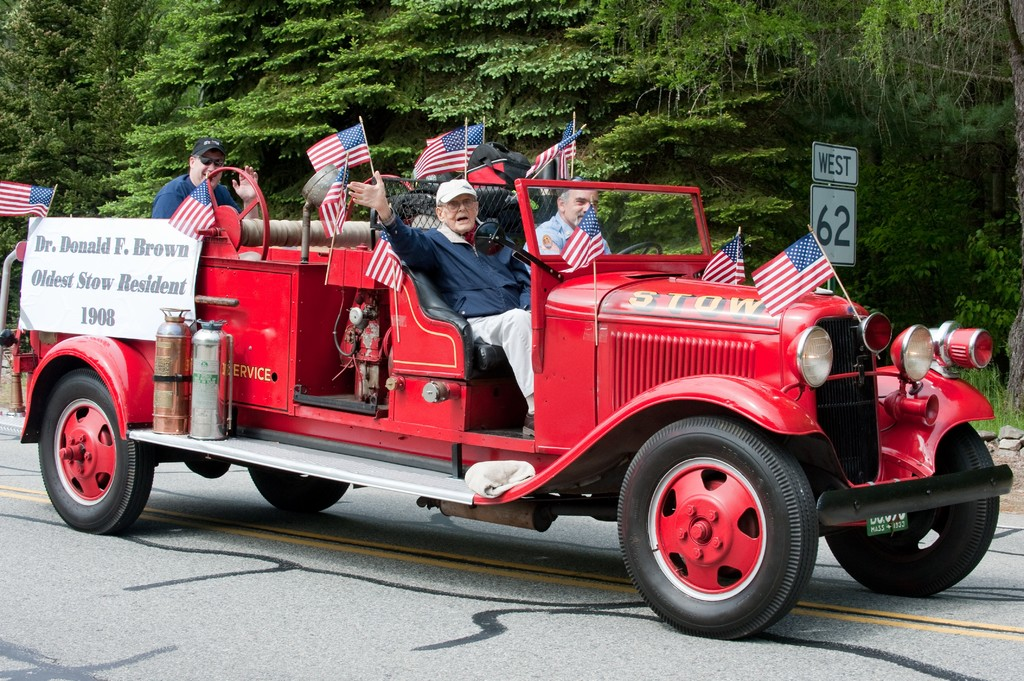cars: (5, 175, 1022, 650)
